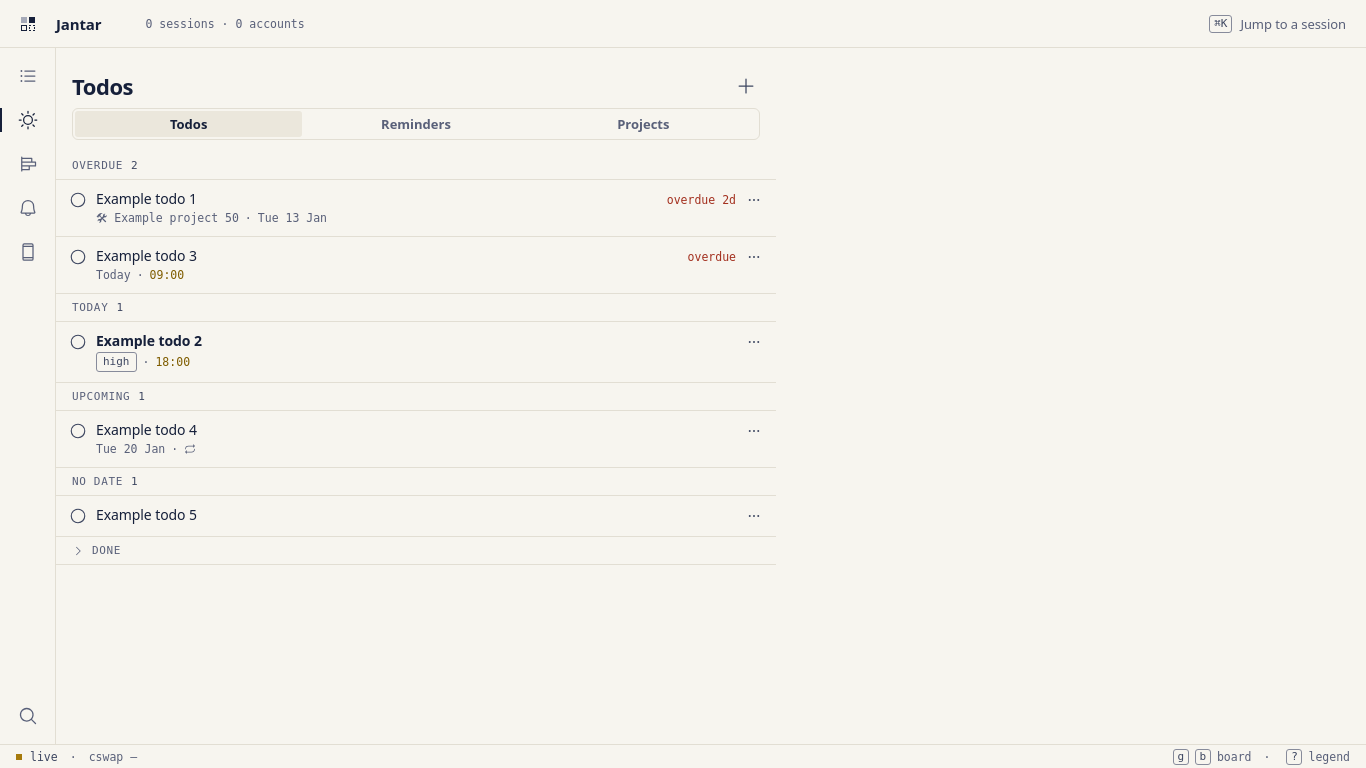
Test: Todos: the list › Undo after Delete puts the row back exactly where it was, and nothing is sent
The image size is (1366, 768).
What coordinates should you click on to do the following:
click the button named "Actions for Example todo 3"
I would click on:
 (754, 257)
Its box is [740,243,768,271].
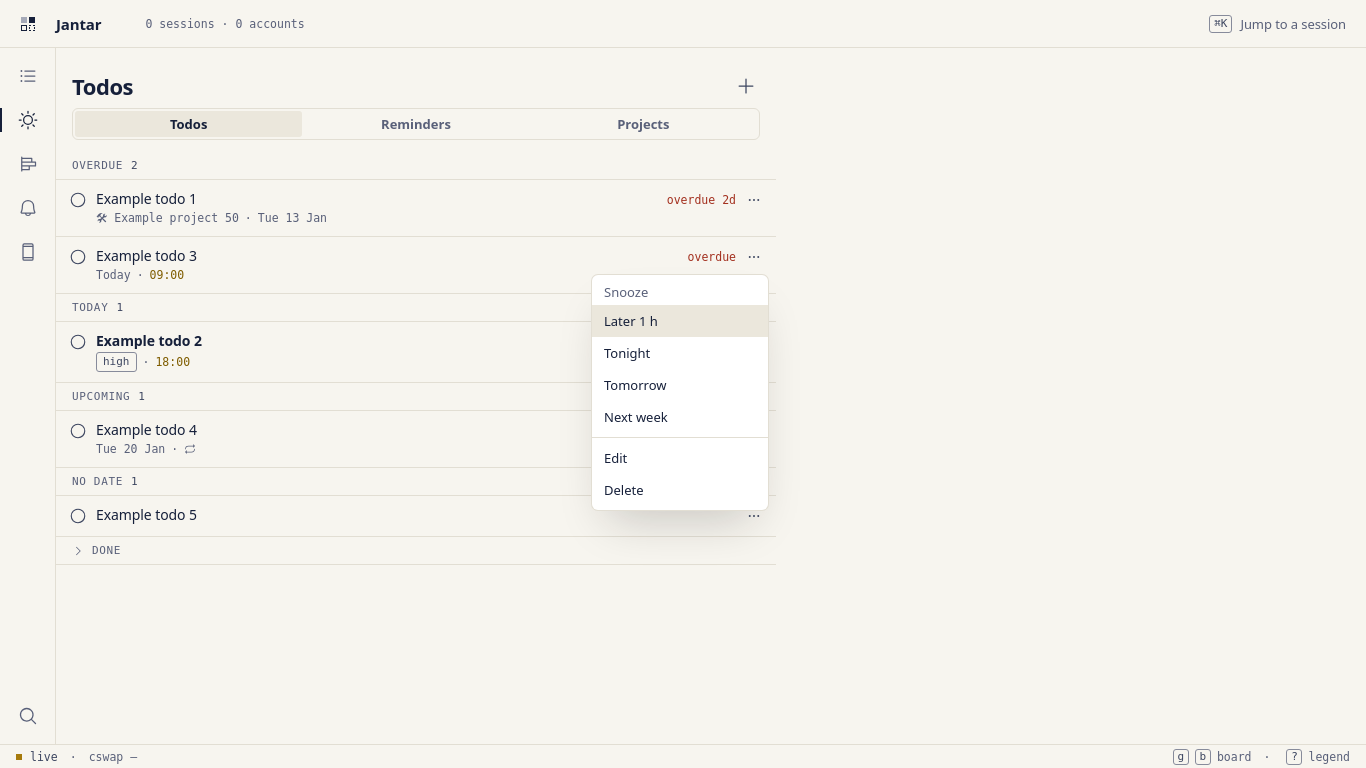
What coordinates should you click on to do the following:
click the menu item "Delete"
I would click on:
 (624, 490)
Its box is [604,481,644,499].
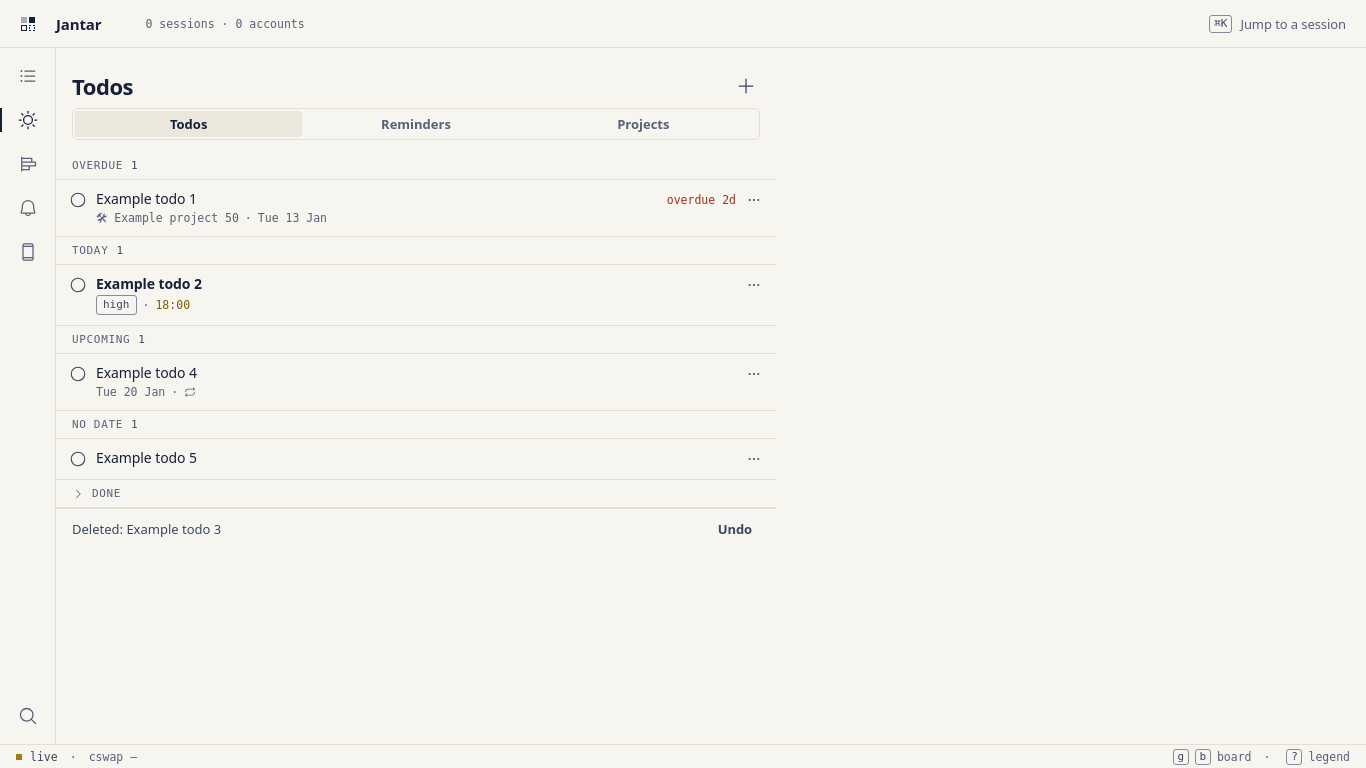
What coordinates should you click on to do the following:
click the button "Undo"
I would click on:
 (735, 528)
Its box is [710,516,760,540].
Wait 10000 ms
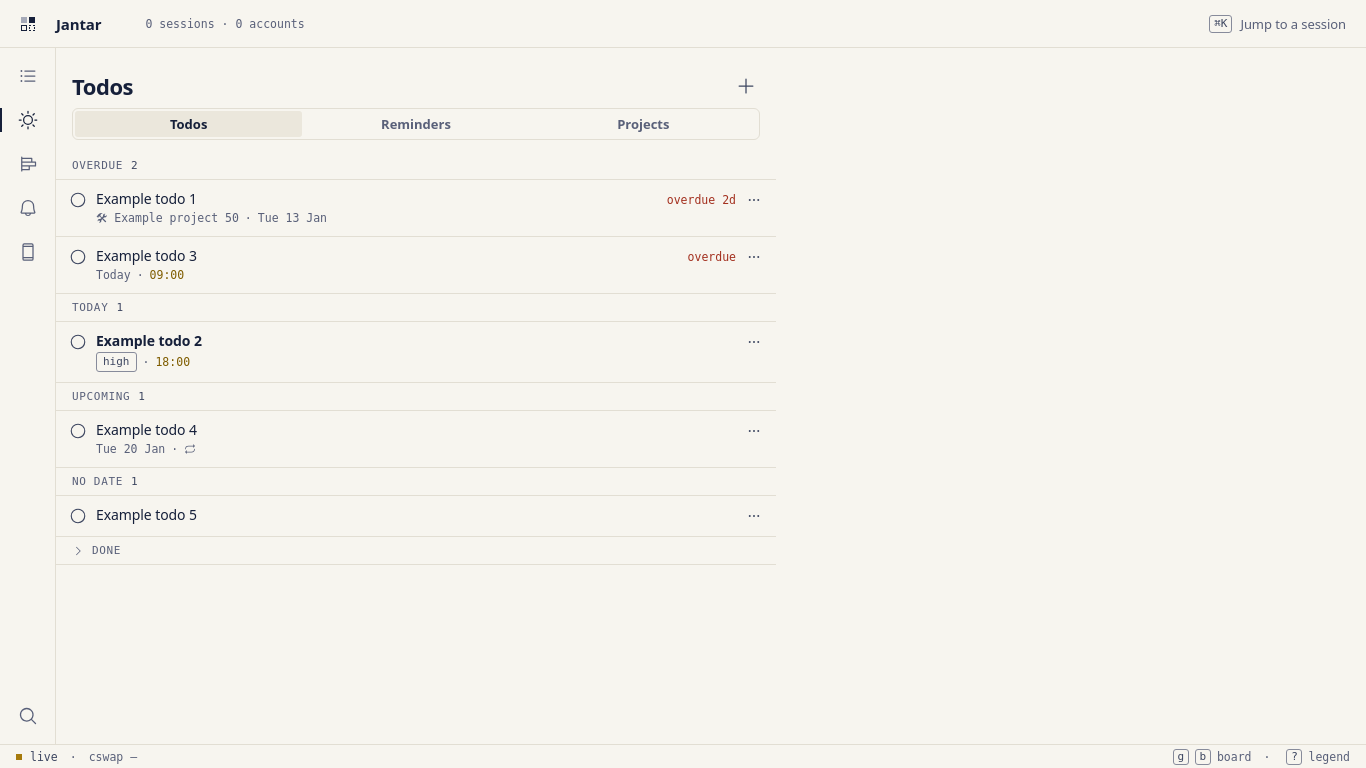
Expected: the text "09:00" is shown, [150,267,184,283]
